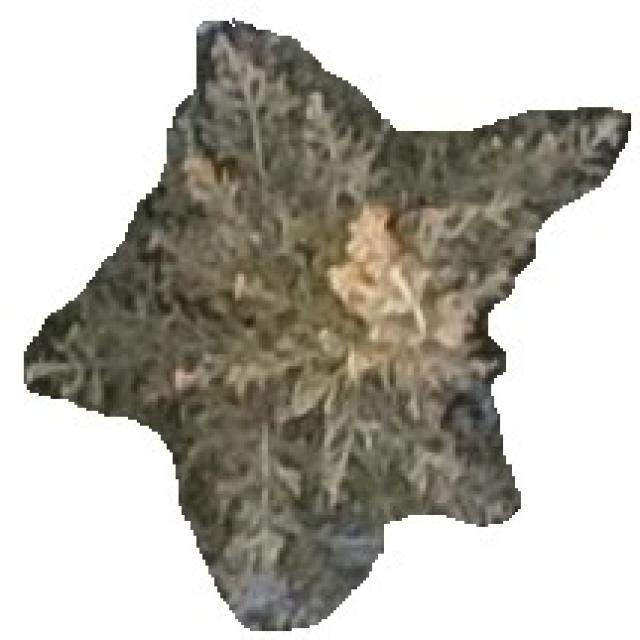spruce: (25, 21, 629, 630)
